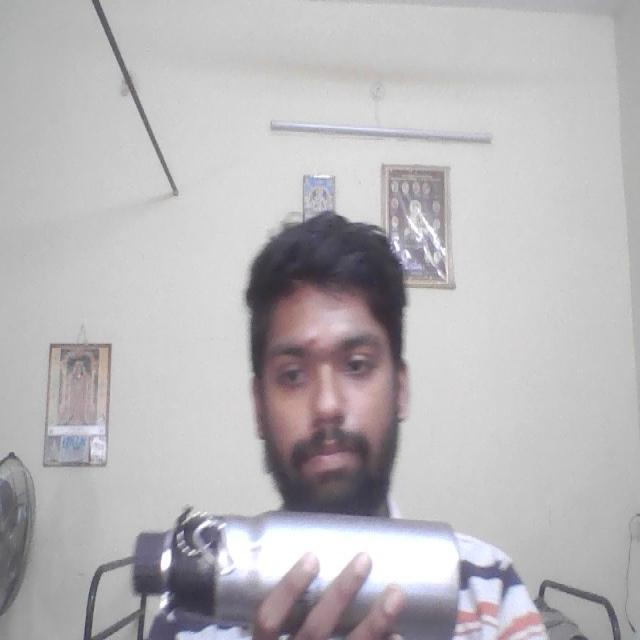Drinking: (137, 503, 473, 640)
